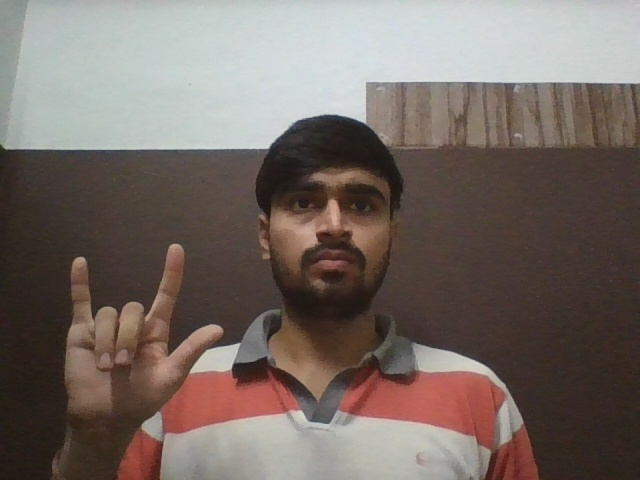I Love You: (64, 243, 225, 423)
